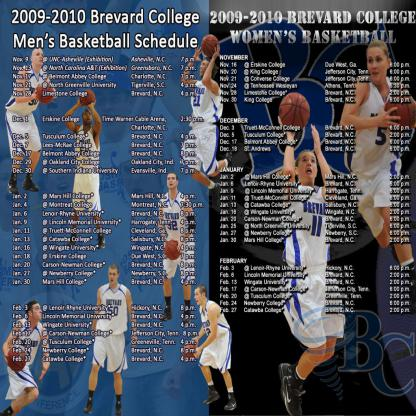face: (368, 50, 388, 82), (299, 153, 318, 180), (33, 50, 45, 64), (201, 60, 210, 78), (109, 269, 118, 285), (33, 305, 43, 319), (168, 175, 178, 188), (195, 292, 204, 306), (84, 110, 93, 123)
